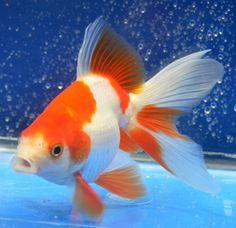goldfish: (10, 62, 219, 205)
